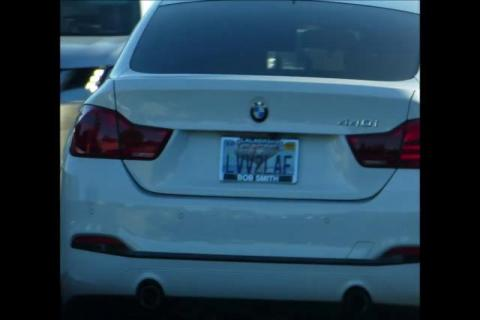LicensePlate: (221, 136, 297, 182)
